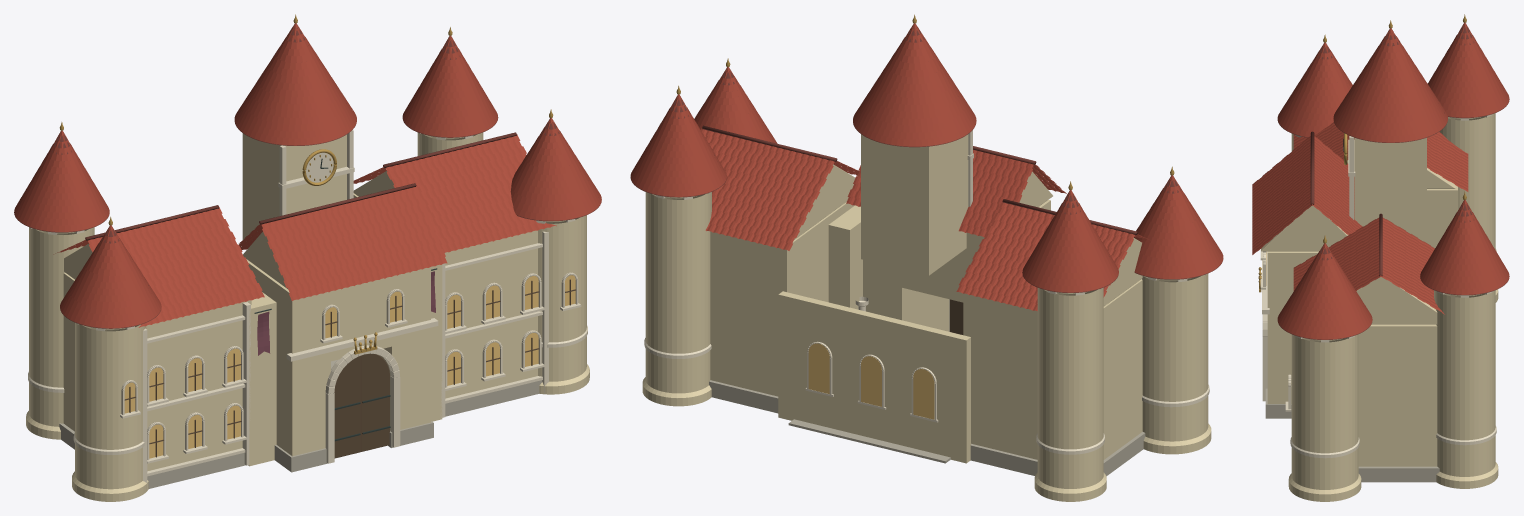
Rendered from castle.glb.
3 views of the same model, side by side, from view 1: azimuth 30°, elevation 25°; view 2: azimuth 150°, elevation 25°; view 3: azimuth 270°, elevation 25° (orthographic). The views are drawn at different scales.
Parts seen in each view (by area): view 1: castle_plaster, castle_roof, castle_ivory, castle_window, castle_stone, castle_roofdark, castle_wood_door_right, castle_wood_door_left, castle_wood, castle_gold, castle_cloth; view 2: castle_plaster, castle_roof, castle_stone, castle_ivory, castle_window, castle_roofdark; view 3: castle_plaster, castle_roof, castle_ivory, castle_stone, castle_roofdark, castle_gold.
Part boxes in pixels (x1,y1,x2,y2): castle_plaster: [26, 132, 589, 501]; castle_roof: [14, 23, 601, 328]; castle_ivory: [28, 130, 587, 489]; castle_window: [124, 275, 575, 458]; castle_stone: [59, 360, 542, 488]; castle_roofdark: [14, 27, 601, 328]; castle_wood_door_right: [361, 353, 389, 451]; castle_wood_door_left: [334, 356, 360, 458]; castle_wood: [124, 279, 576, 457]; castle_gold: [59, 14, 553, 354]; castle_cloth: [257, 271, 435, 355]; castle_plaster: [642, 134, 1211, 501]; castle_roof: [630, 23, 1223, 311]; castle_stone: [709, 380, 1145, 476]; castle_ivory: [644, 130, 1209, 454]; castle_window: [808, 343, 934, 419]; castle_roofdark: [631, 27, 1222, 292]; castle_plaster: [1261, 113, 1498, 501]; castle_roof: [1252, 22, 1509, 339]; castle_ivory: [1260, 114, 1496, 458]; castle_stone: [1265, 388, 1439, 482]; castle_roofdark: [1277, 26, 1509, 339]; castle_gold: [1258, 14, 1466, 292].
Size of the model in its own units: 40.8 by 28.94 by 18.4.
